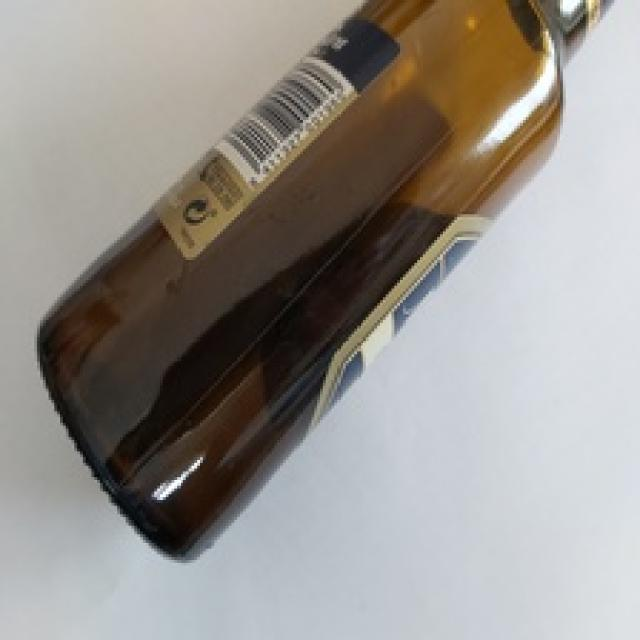Glass: (36, 0, 615, 565)
